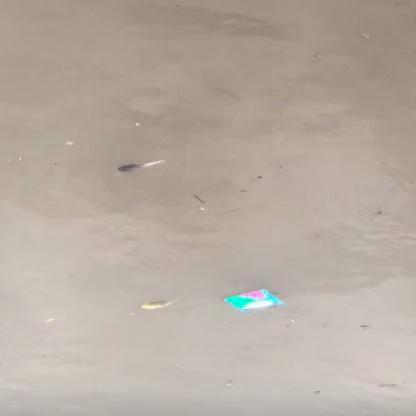Trash: (223, 286, 282, 314)
